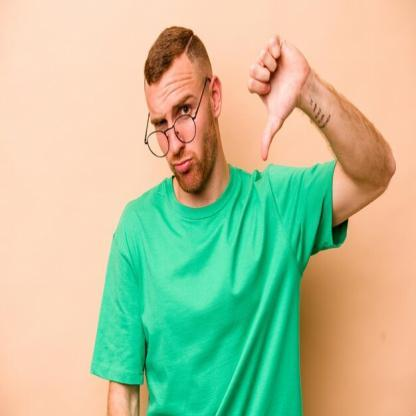thumb_down: (246, 31, 308, 162)
